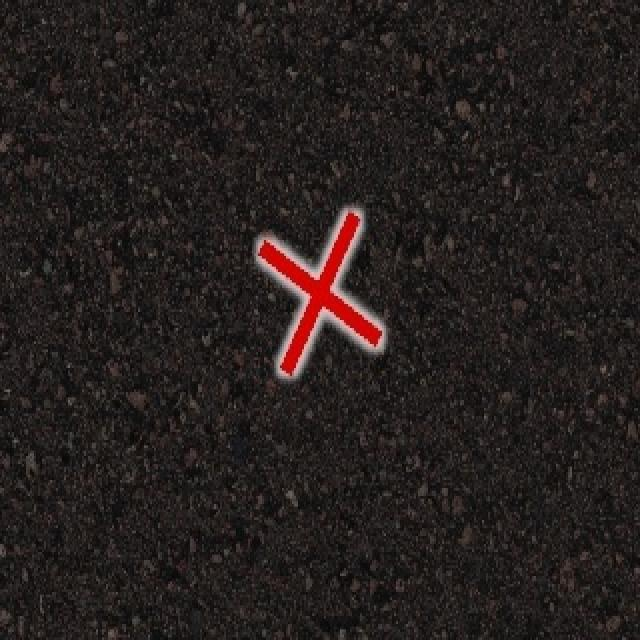x_marker: (259, 212, 381, 372)
